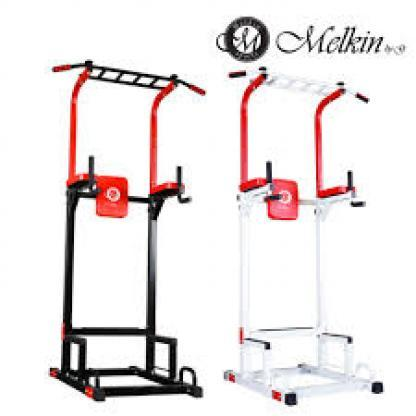chinning dipping: (226, 66, 384, 406), (54, 59, 207, 398)
